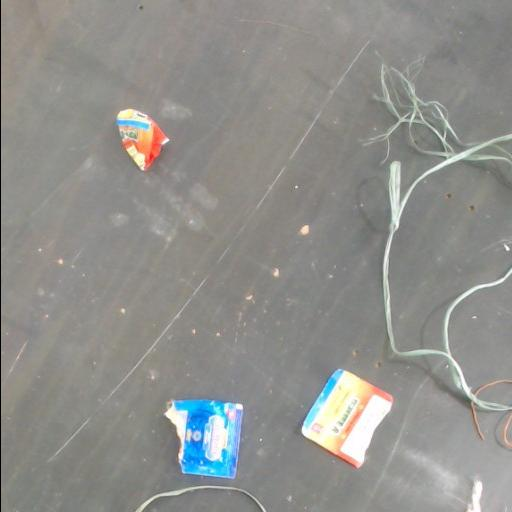conveyor belt: (1, 0, 512, 511), (391, 163, 512, 348), (451, 276, 512, 386), (390, 133, 437, 180)
packet: (301, 369, 392, 467), (164, 399, 242, 478), (116, 109, 168, 170)
thread: (365, 64, 512, 450), (134, 485, 265, 511)
